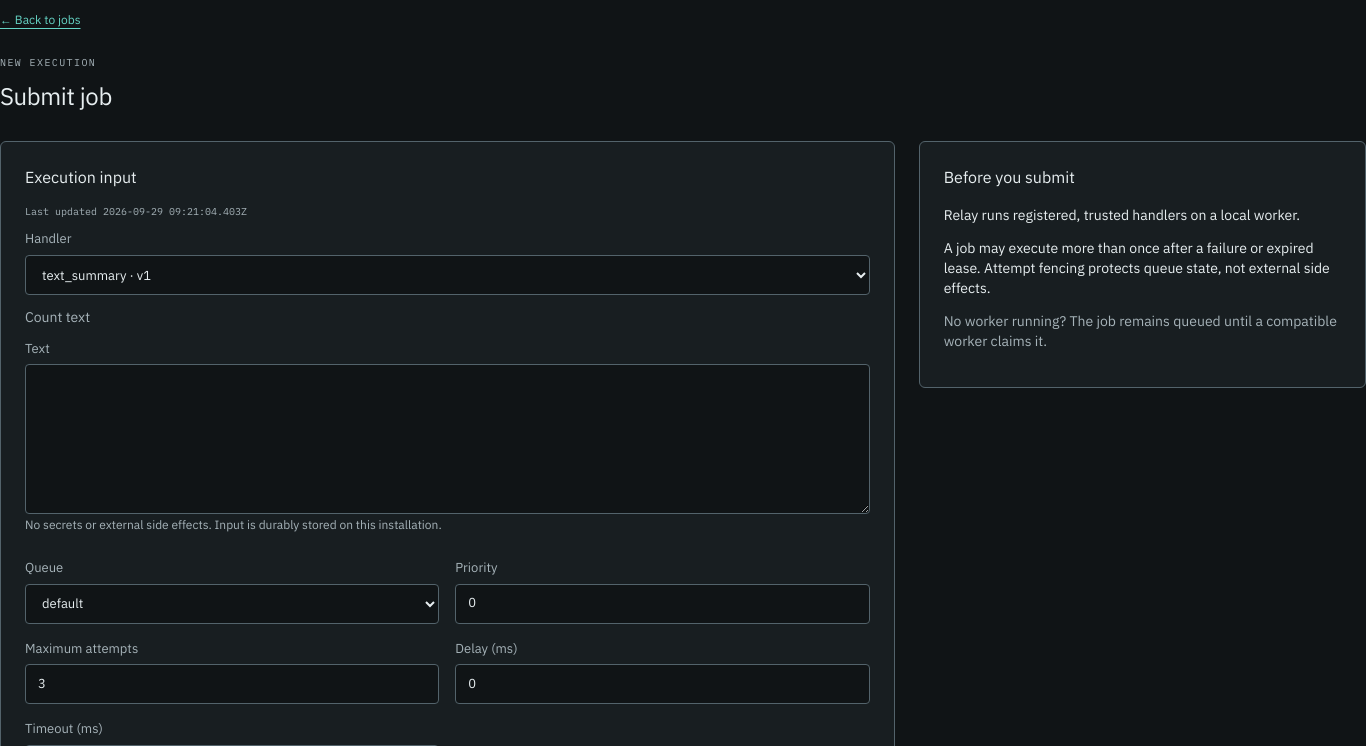
Test case: detail, staleness and validation › validates batch input before posting
This screenshot has width=1366, height=746.
Select "batch_statistics · v1" in the dropdown labelled "Handler" at (447, 275), box [25, 255, 870, 295]
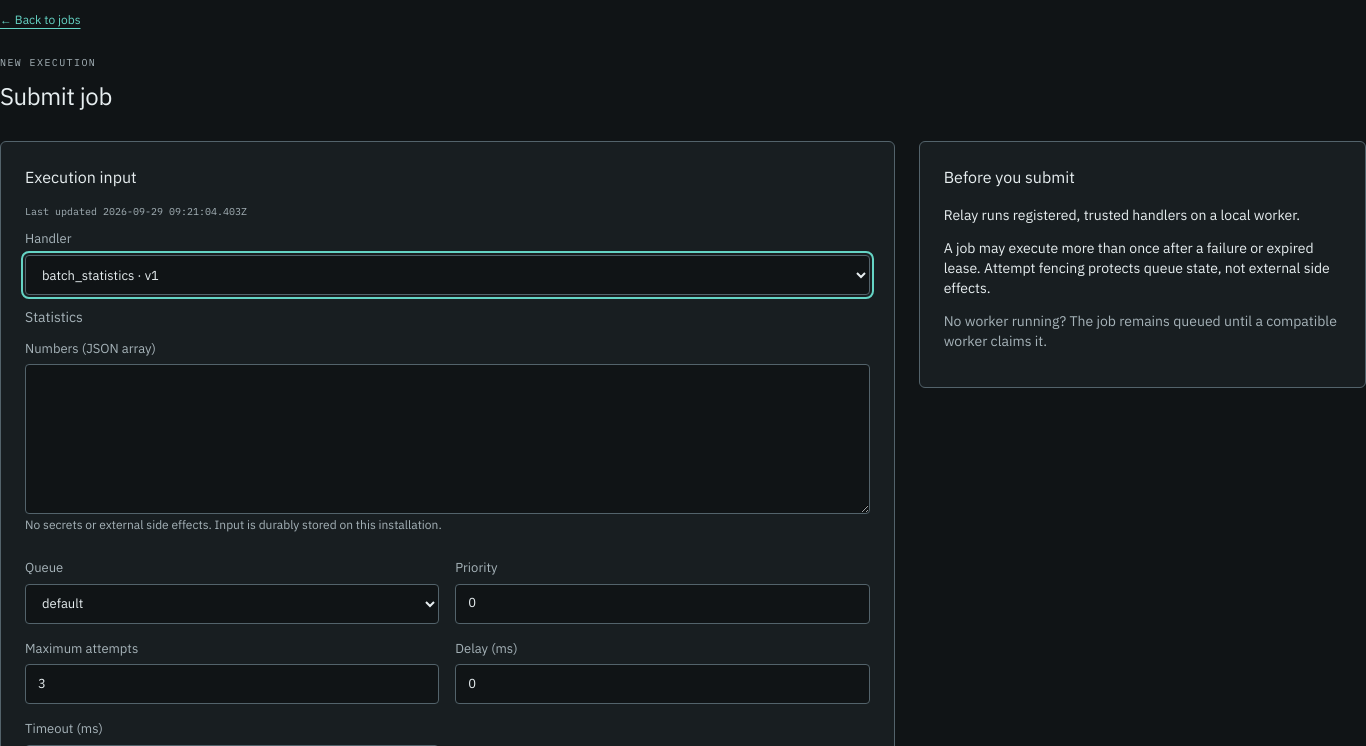
Type "not-json" into the text box labelled "Numbers (JSON array)" at (447, 439), box [25, 364, 870, 514]
(page scrolled)
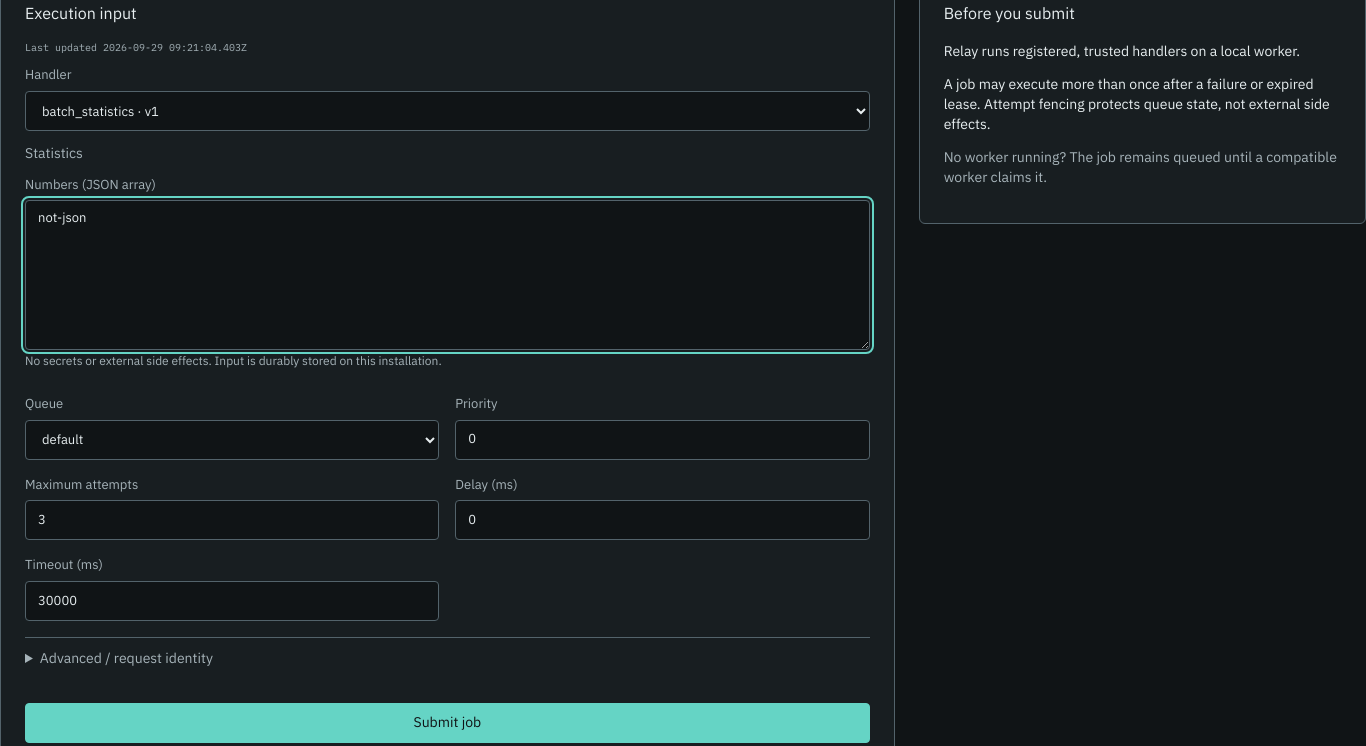
Click the button "Submit job" at (447, 722), box [25, 702, 870, 742]
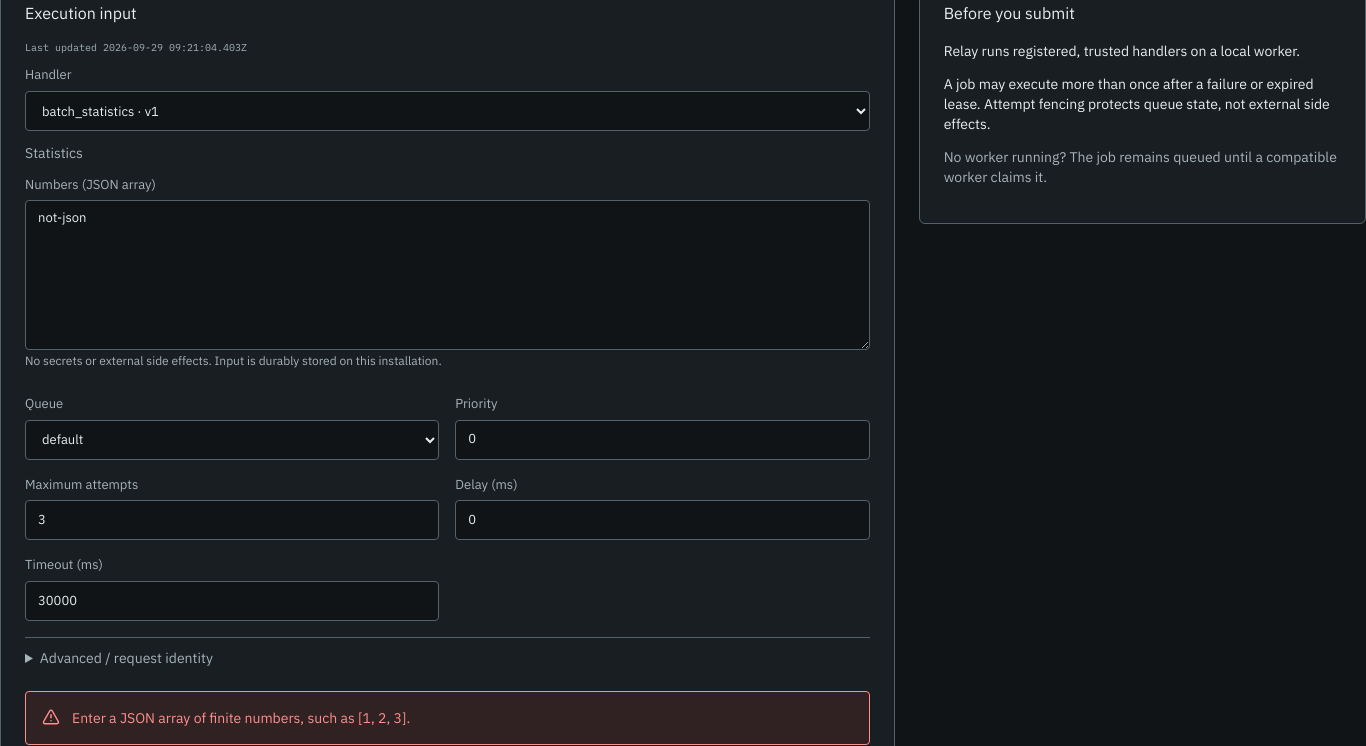
Expected: the message shows "JSON array", [72, 708, 410, 726]
